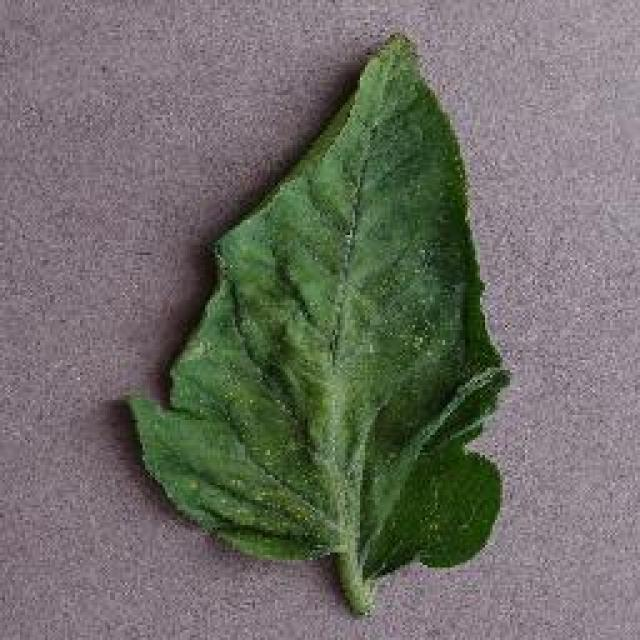Tomato mosaic virus leaf: (126, 34, 509, 591)
